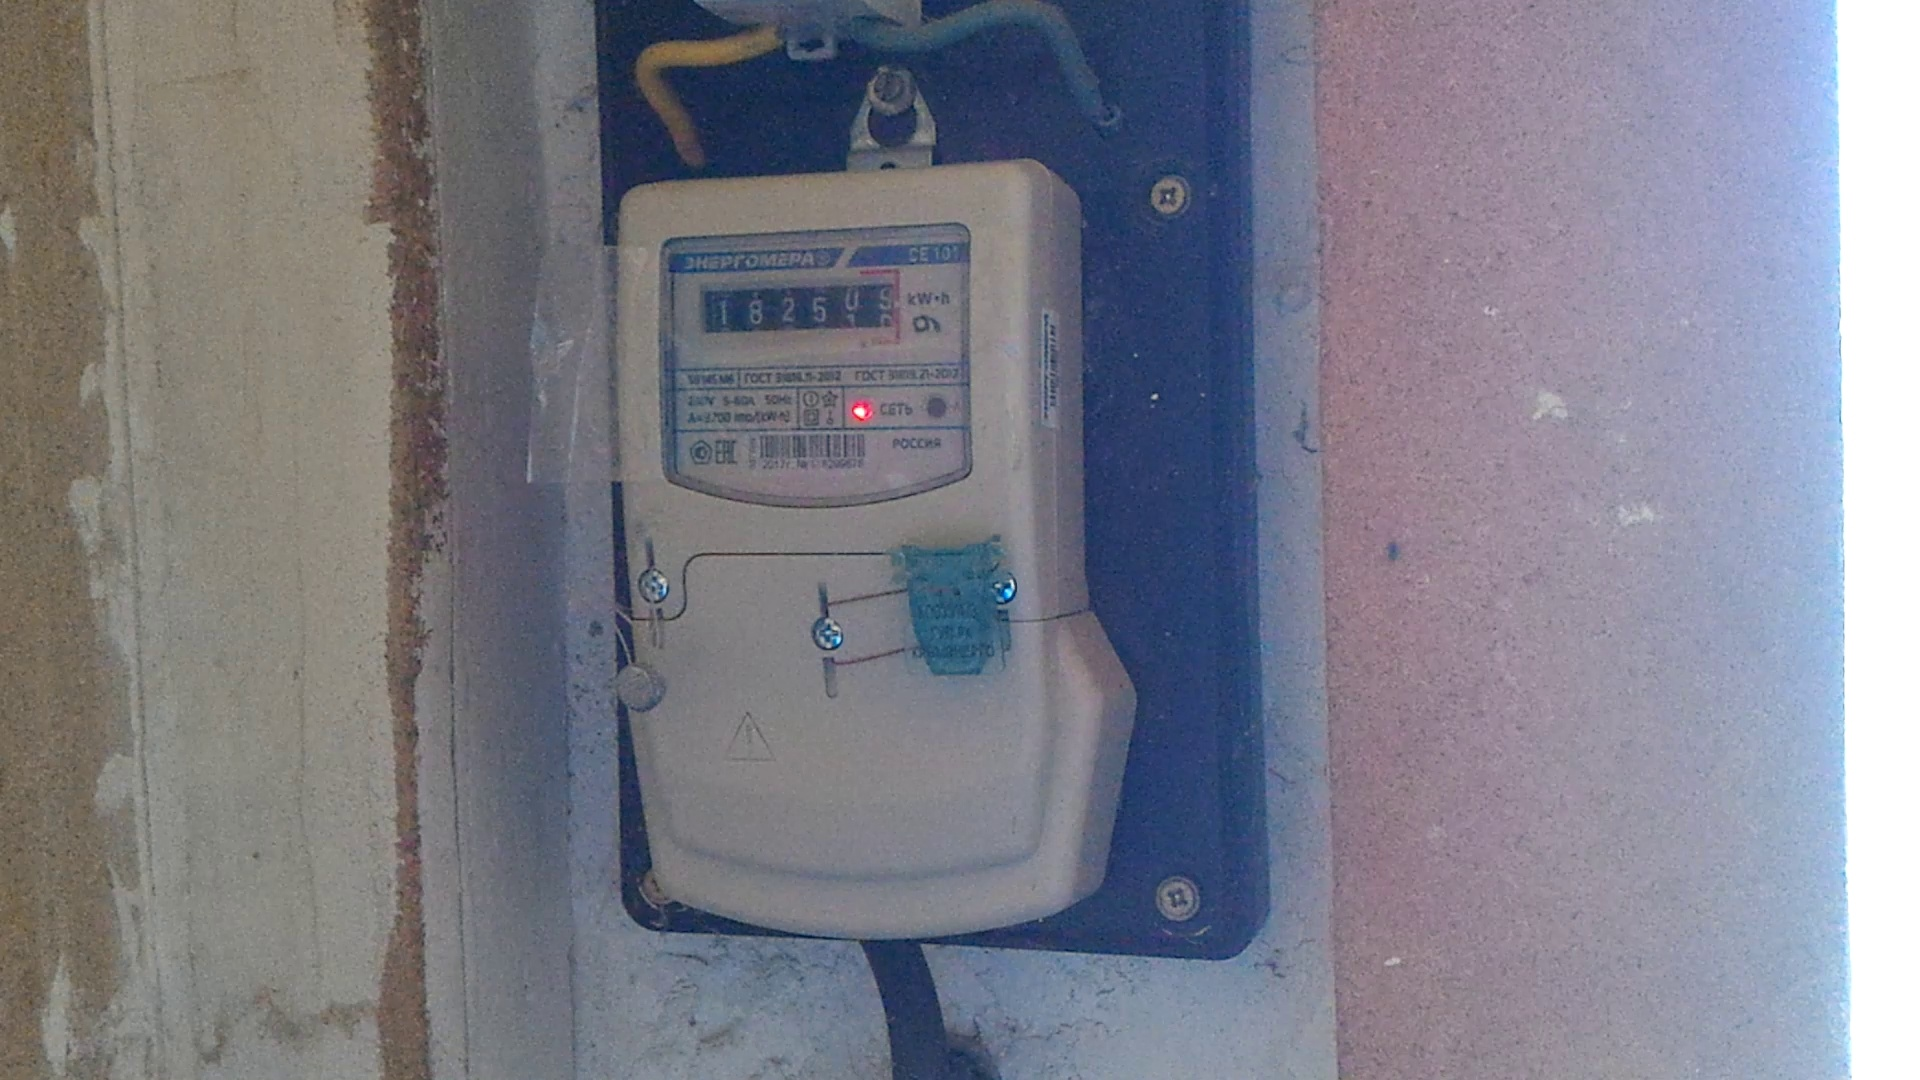counter: (626, 164, 1068, 926)
counter_screen: (702, 284, 898, 331)
